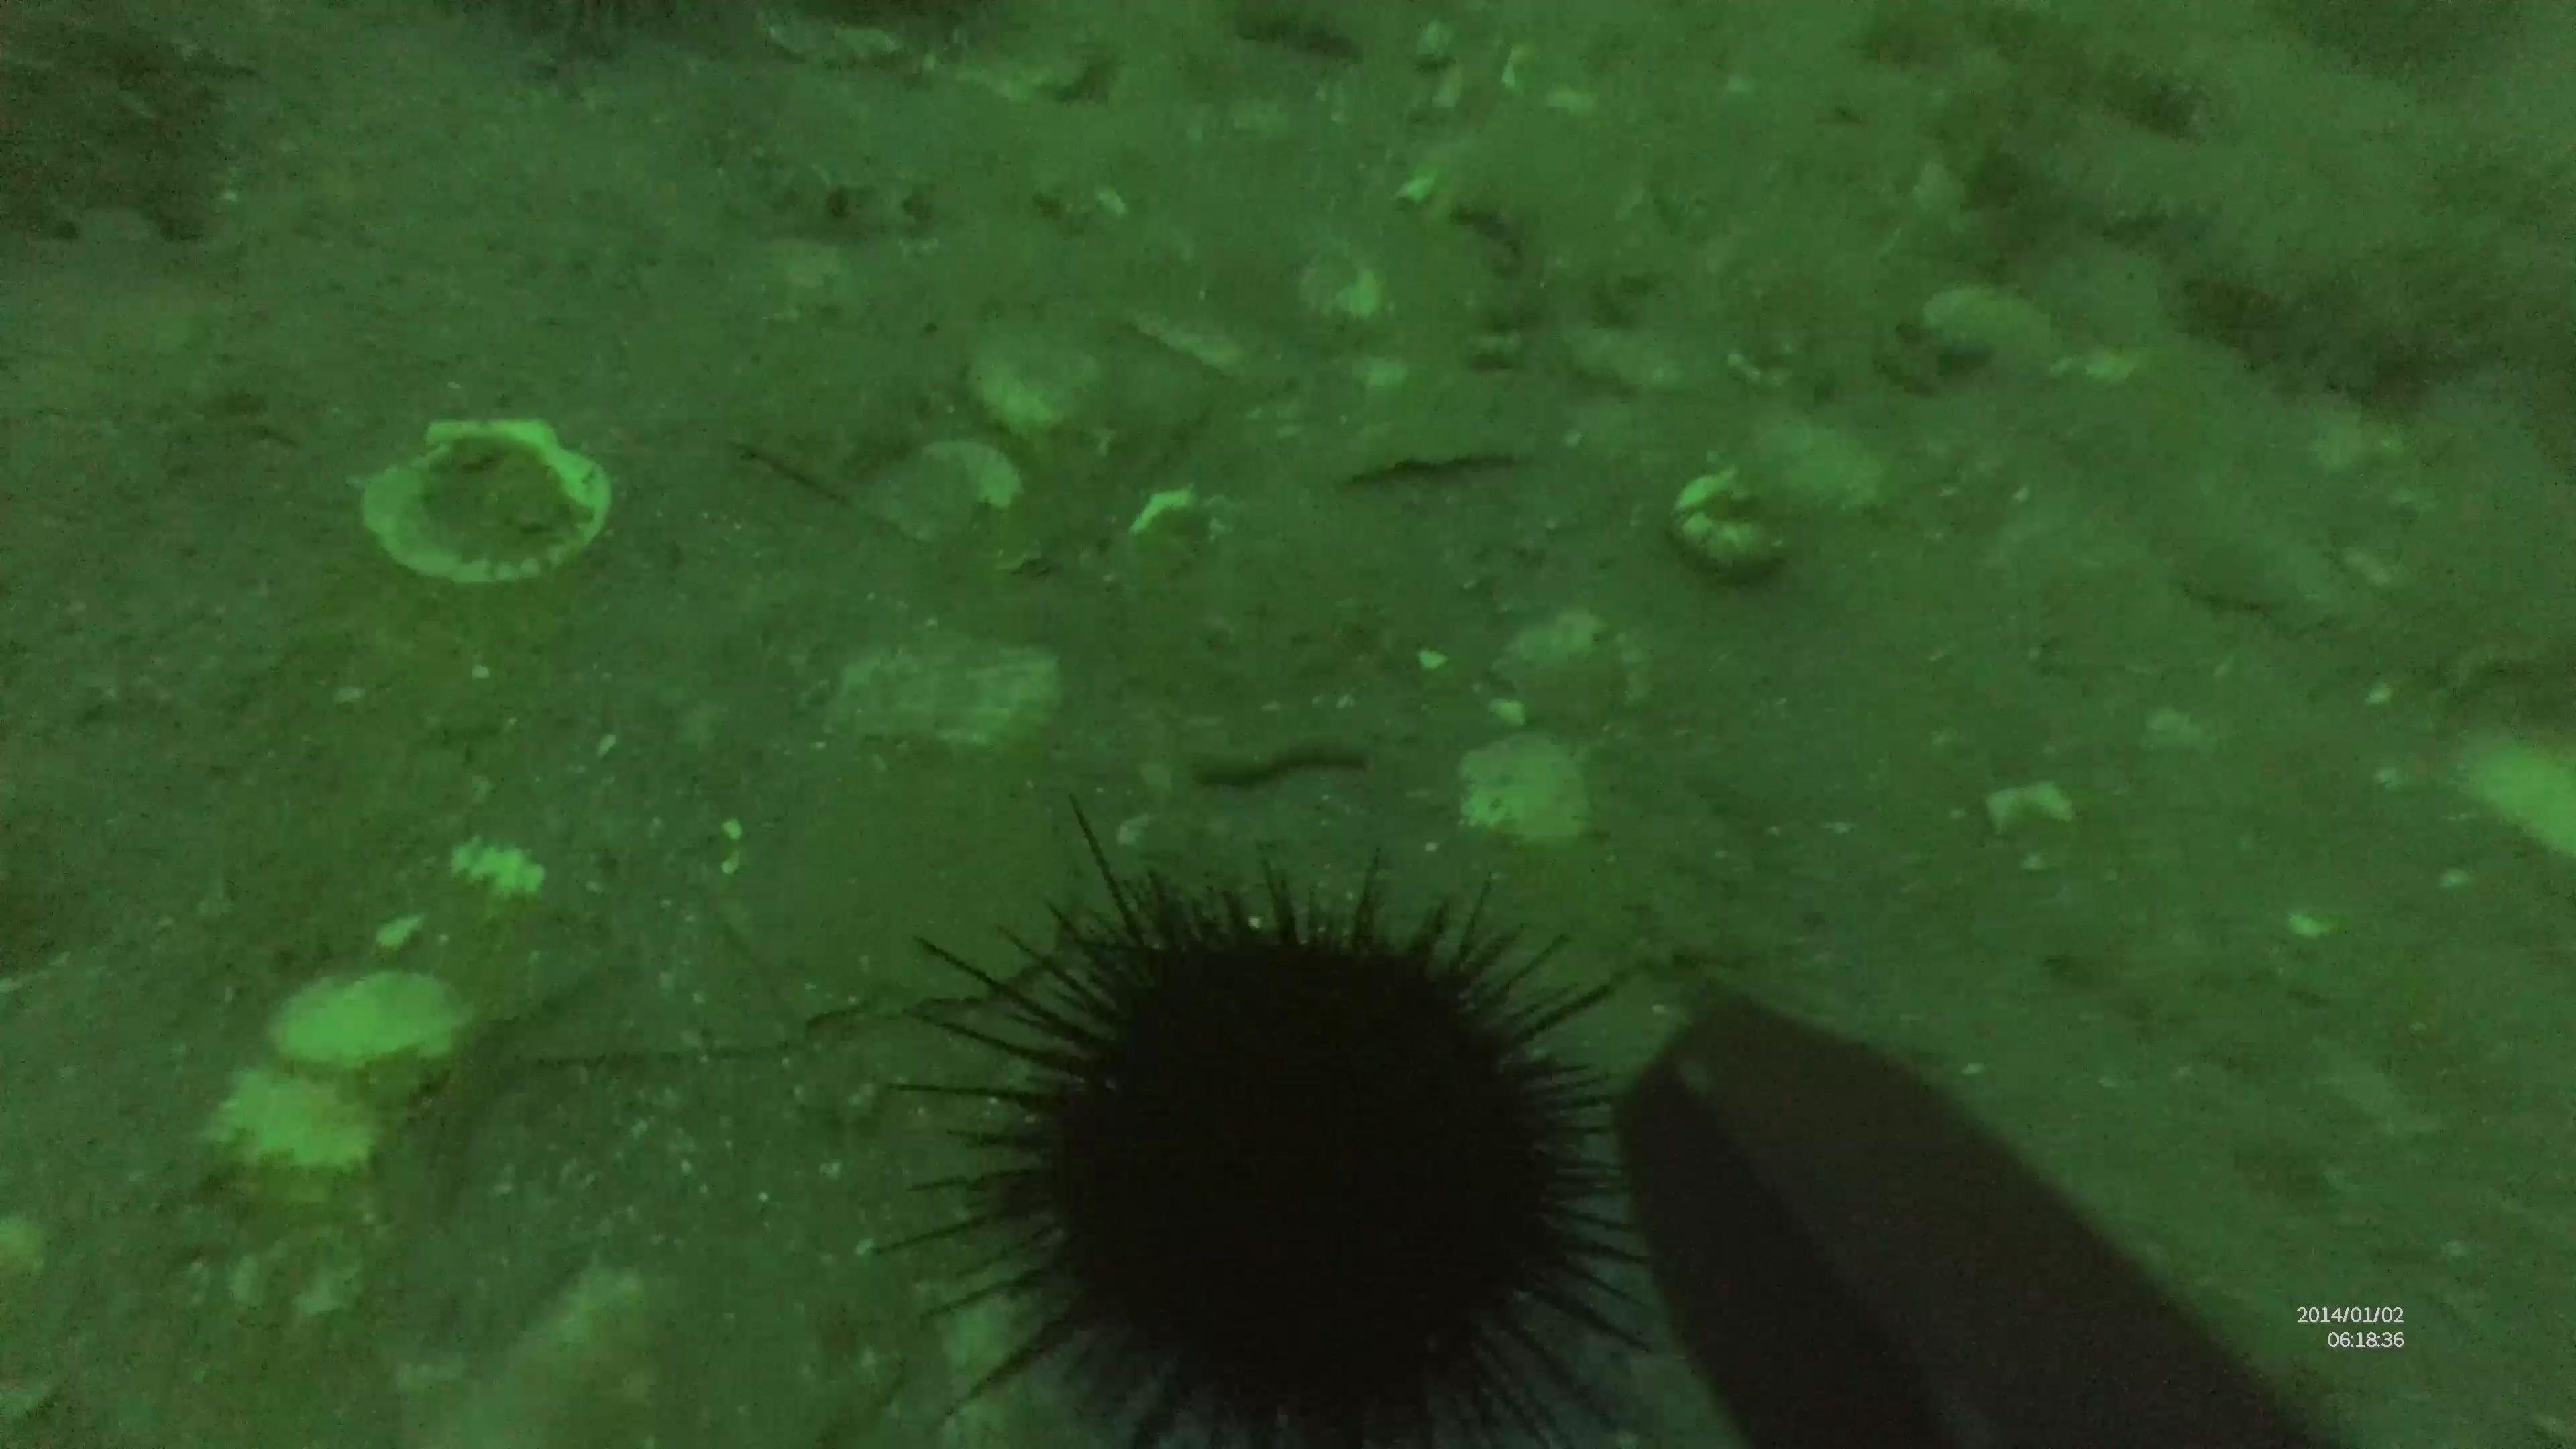echinus: (904, 812, 1614, 1449)
